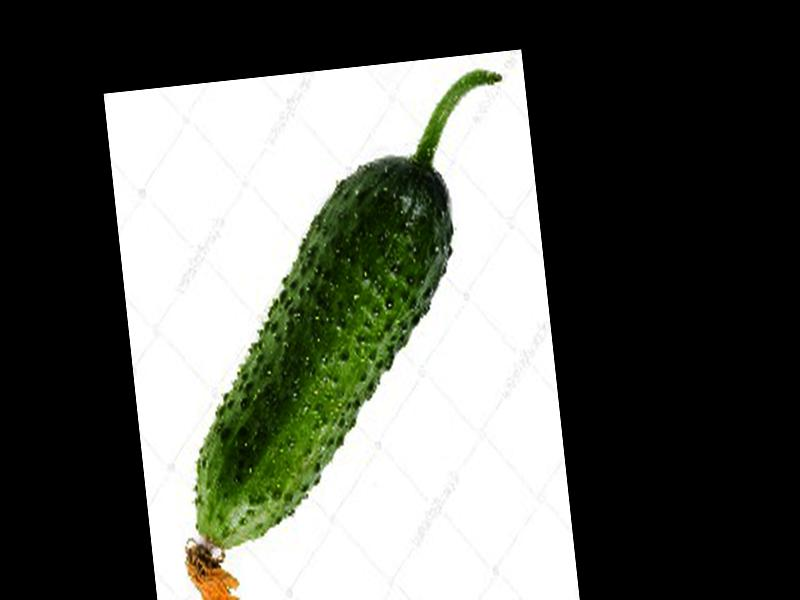Cucumber: (137, 69, 553, 600)
